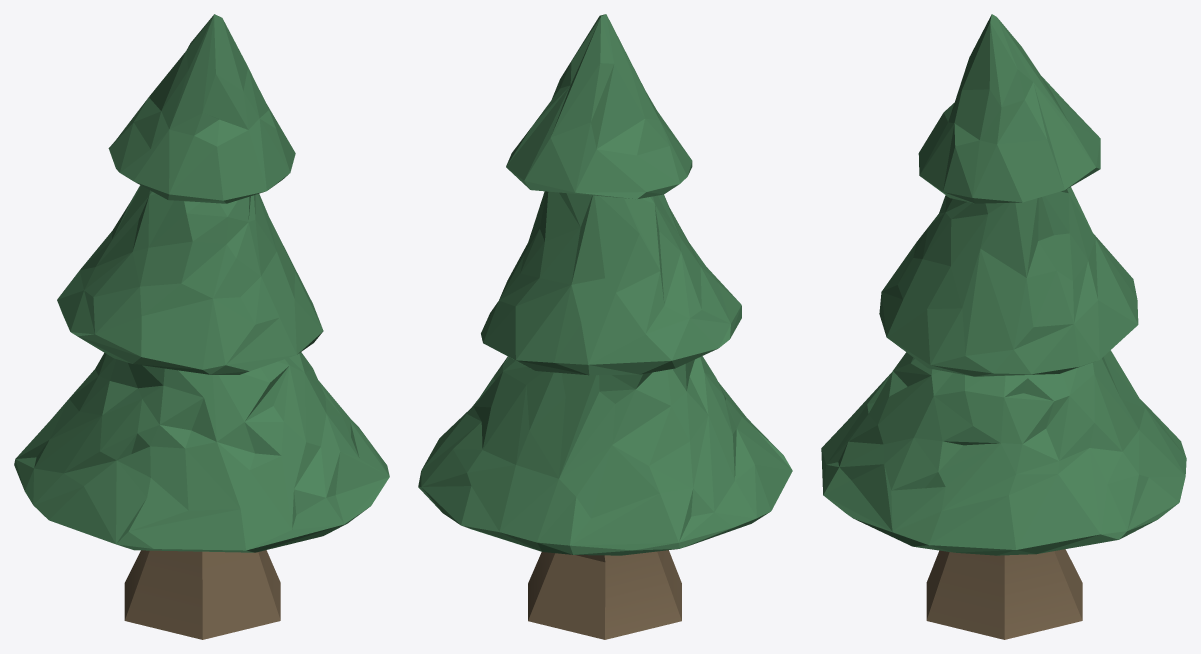
File: tree_pine_1.fbx
3 views of the same model, side by side, from view 1: azimuth 30°, elevation 25°; view 2: azimuth 150°, elevation 25°; view 3: azimuth 270°, elevation 25° (orthographic).
Parts seen in each view (by area): view 1: pCylinder9; view 2: pCylinder9; view 3: pCylinder9.
Boxes of the visible parts, x1,y1,x2,y2 form: pCylinder9: (14, 14, 389, 639); pCylinder9: (418, 14, 792, 639); pCylinder9: (821, 14, 1186, 639).
Bounding box in the file's own units: 1.85 × 3.22 × 1.81.
